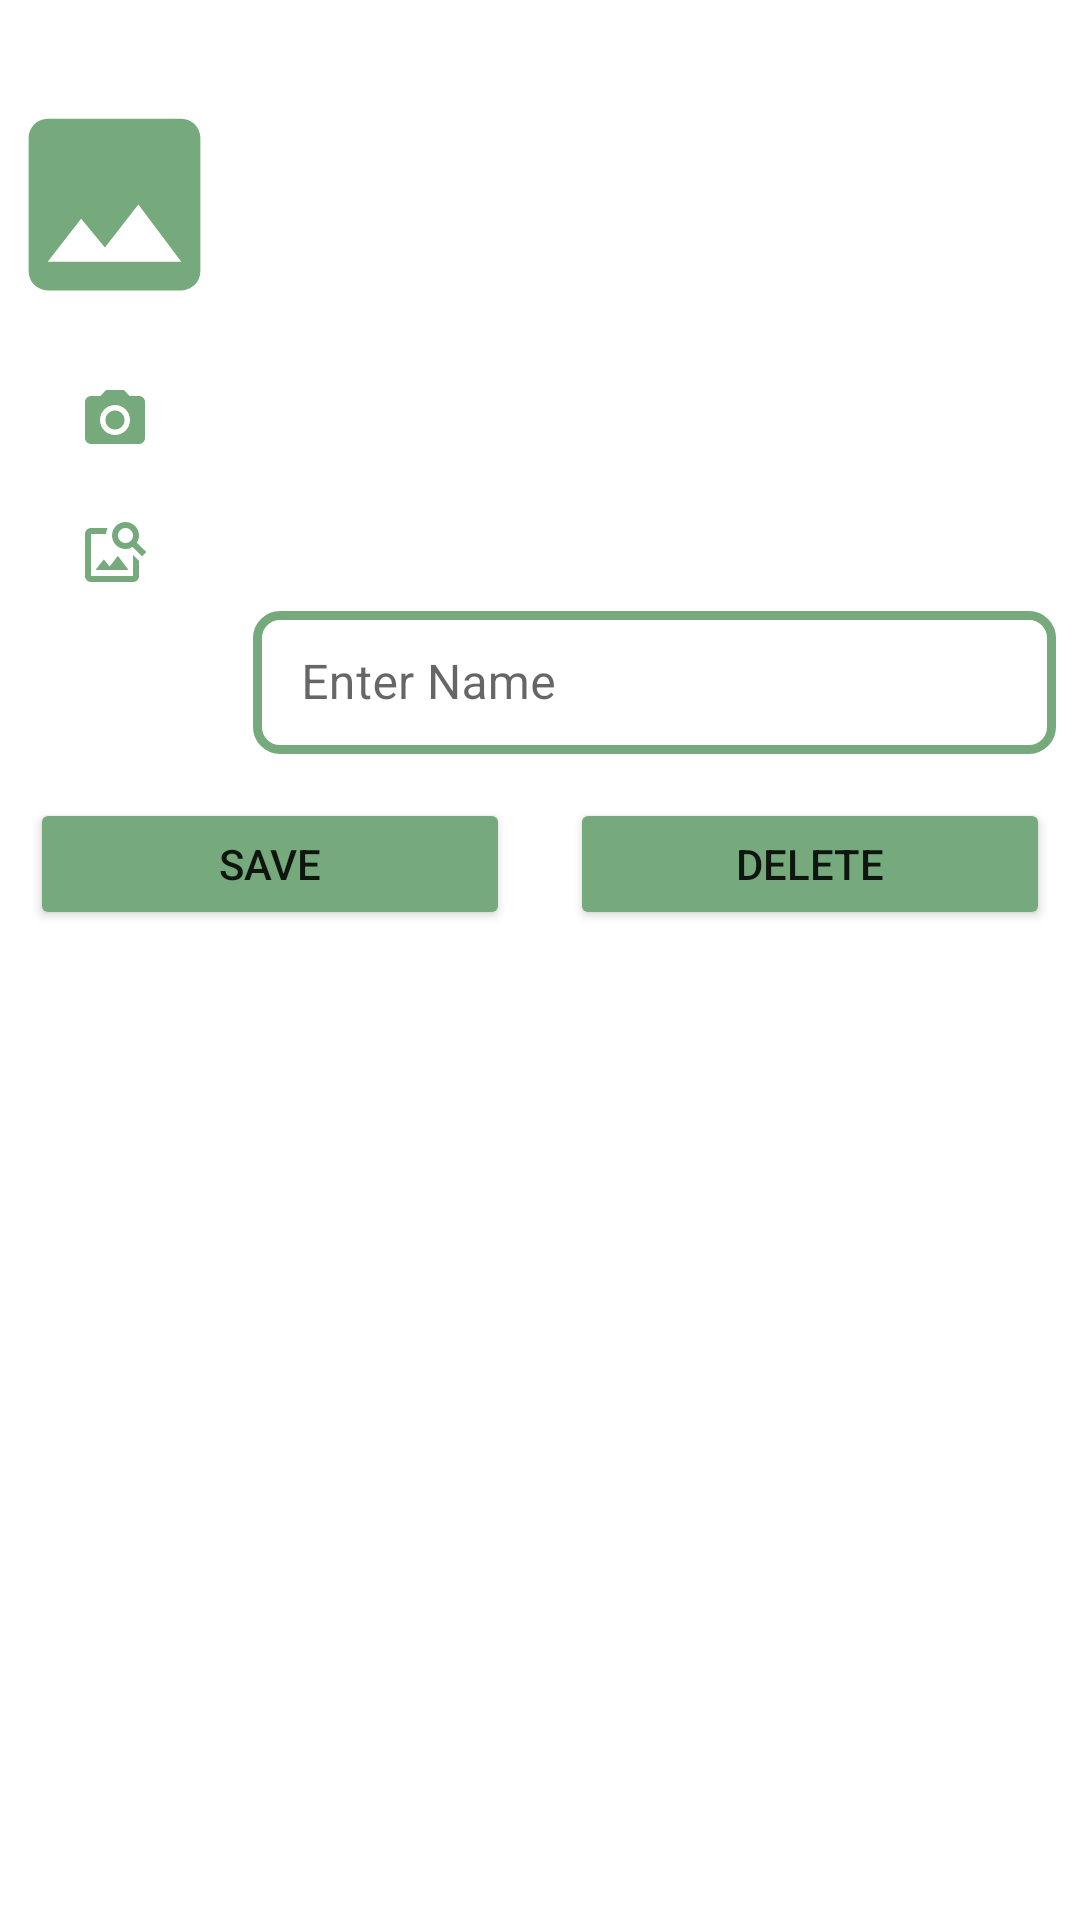

Locate icon controls on the screen. Image size 1080 × 1920, boxes as (x1, y1, x2, y2).
gallery: (85, 522, 146, 582)
photo camera: (85, 390, 145, 444)
